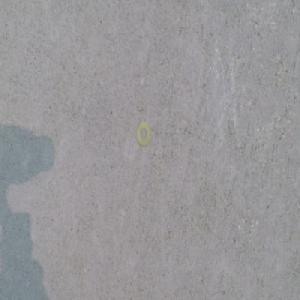Washer: (136, 120, 151, 148)
